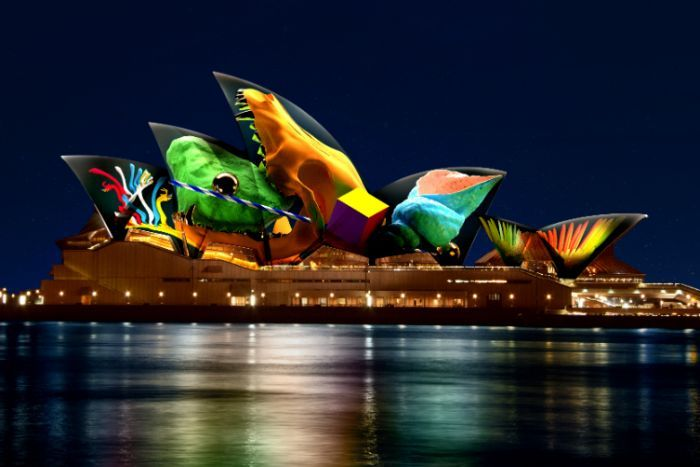opera house: (15, 51, 665, 305)
